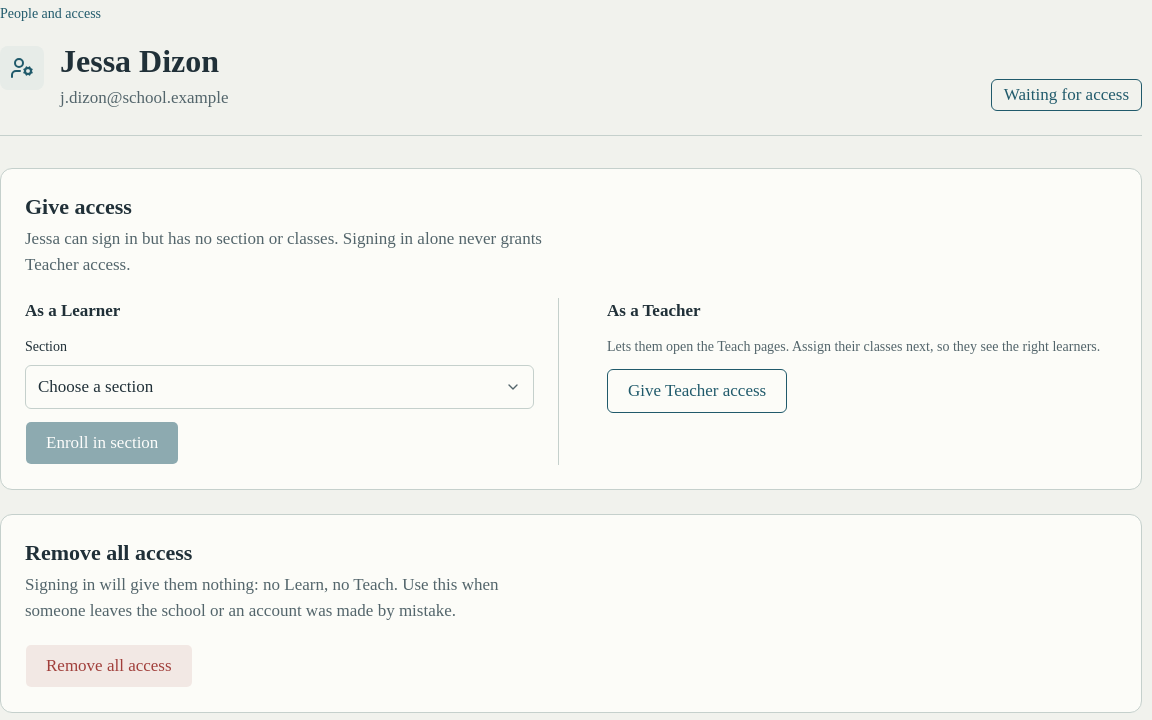
Test: PersonView › gives a waiting account Teacher access after confirmation
This screenshot has width=1152, height=720.
Expected: the heading "Jessa Dizon" is shown, [60,42,229,81]
Click the button "Give Teacher access" at [697, 391], box [607,369,787,413]
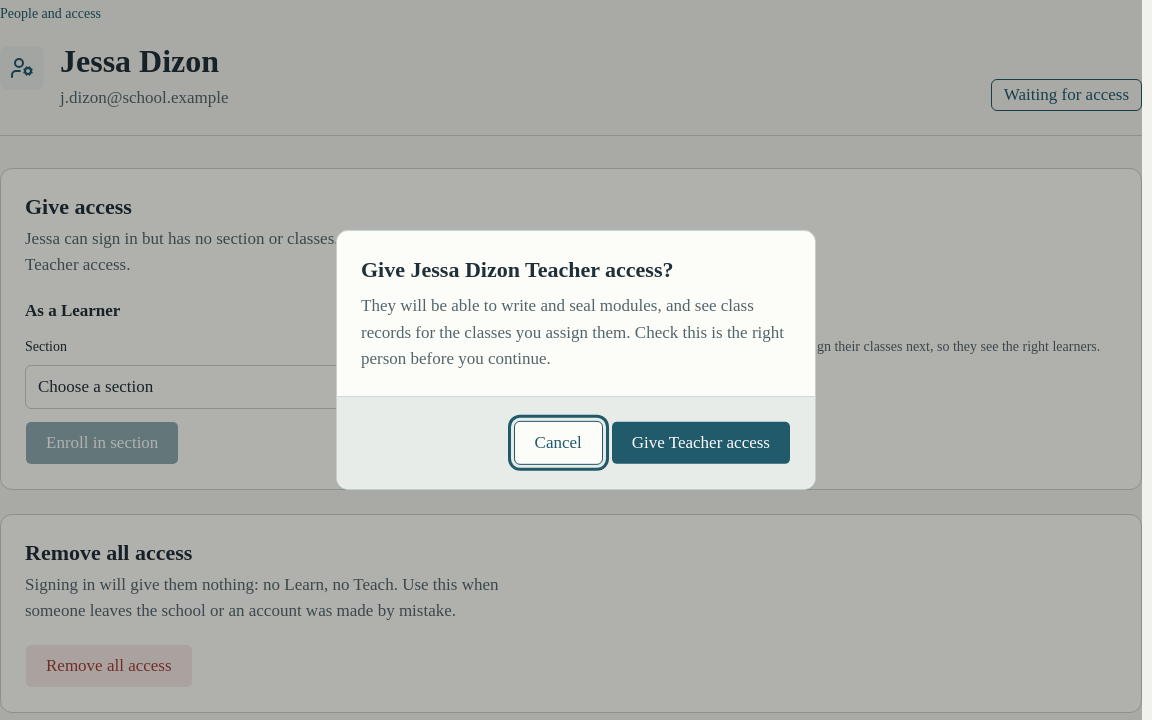
Click the button "Give Teacher access" at [701, 443], box [611,421,791,465]
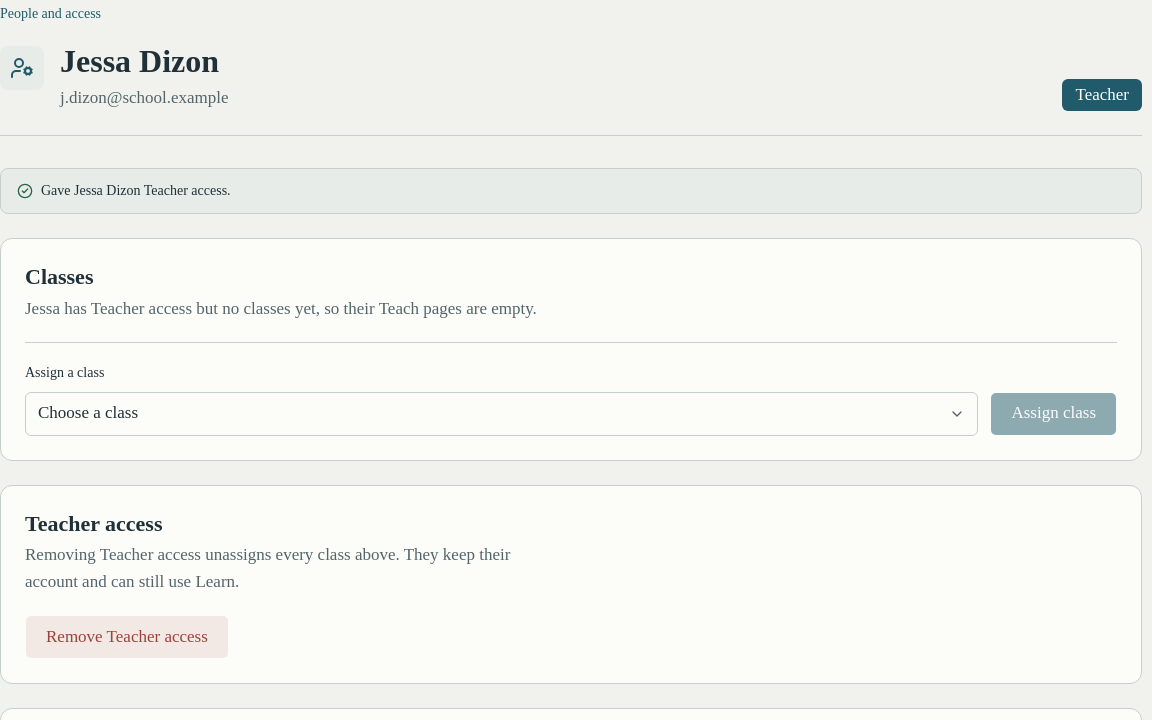
Expected: the heading "Classes" is shown, [25,264,94,289]
Result: the message reads "Gave Jessa Dizon Teacher access." at [41,183,231,198]
